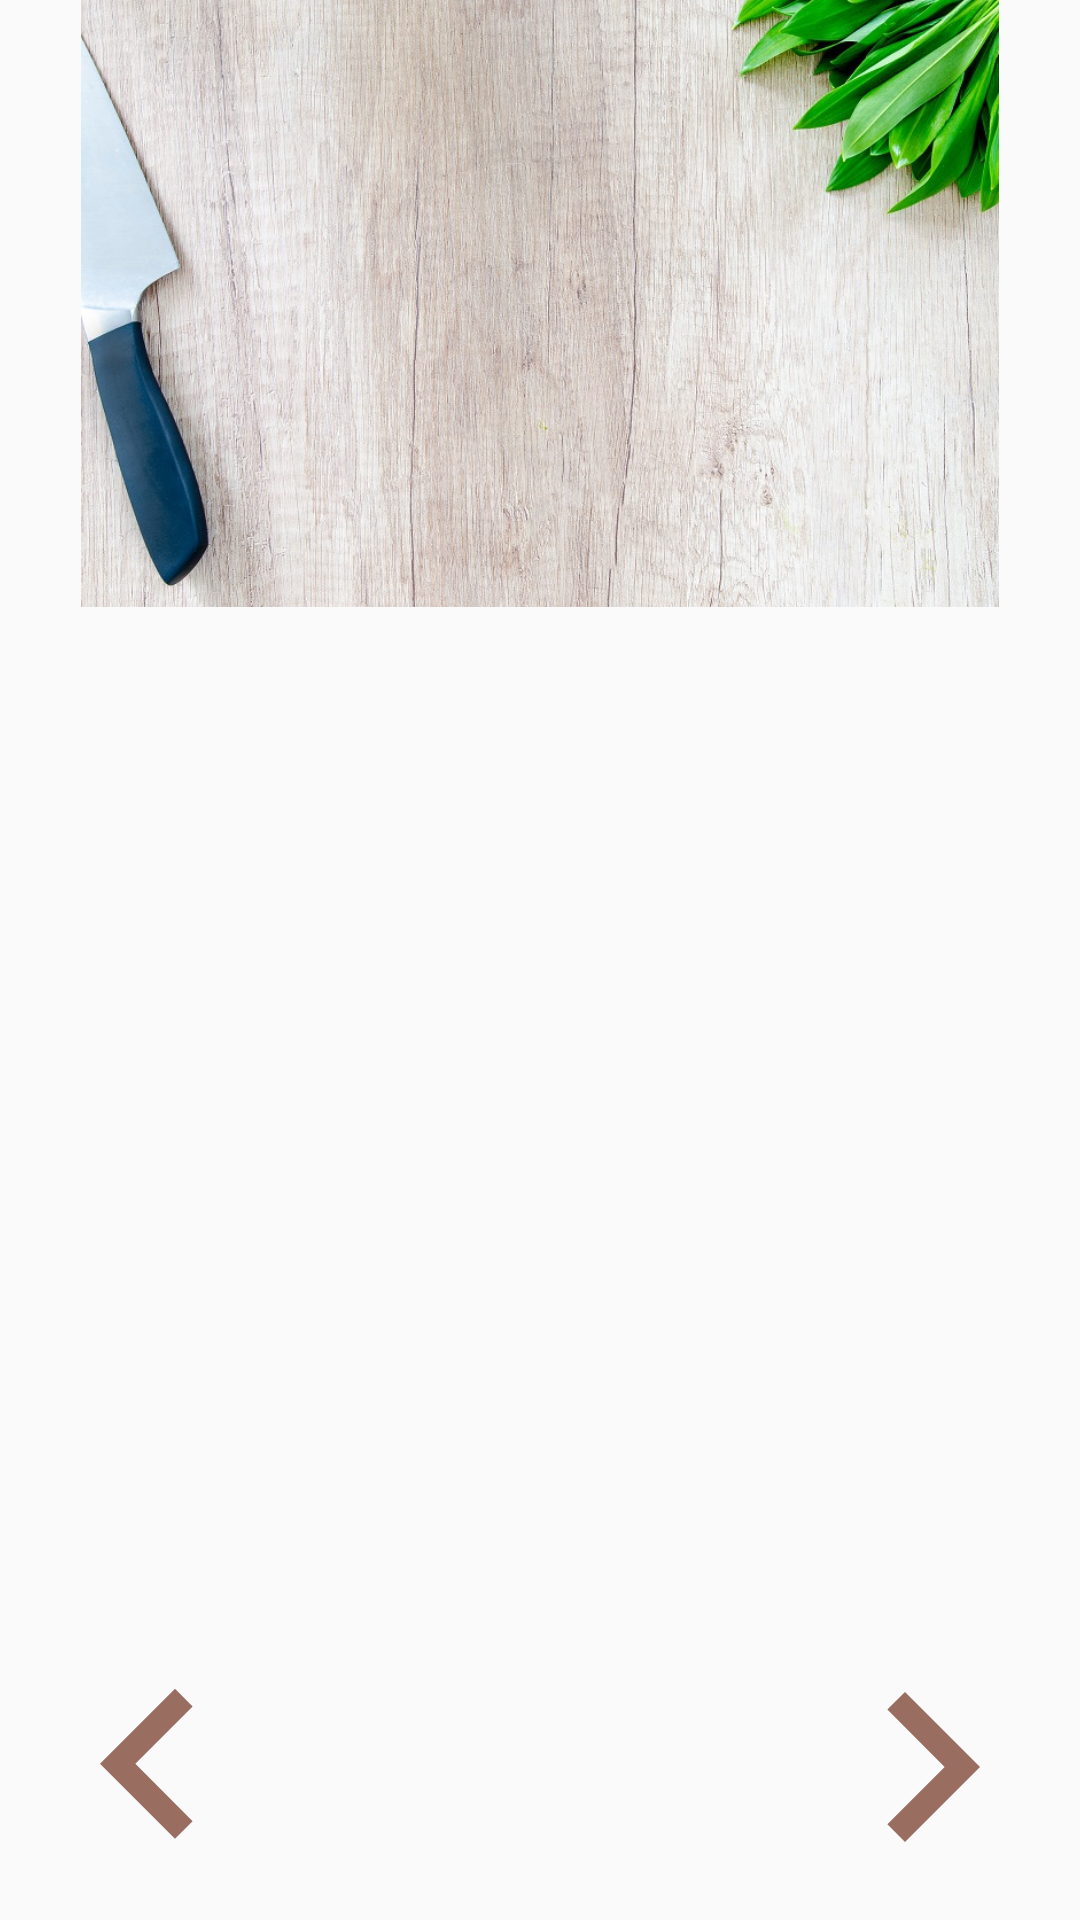

Point at icon controls on the screen. Image size 1080px×1920px, points as (x,y).
arrow left: (146,1764)
arrow right: (933,1767)
